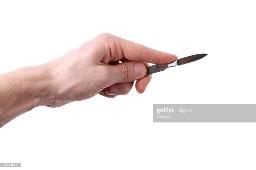scalpel: (144, 52, 208, 76)
